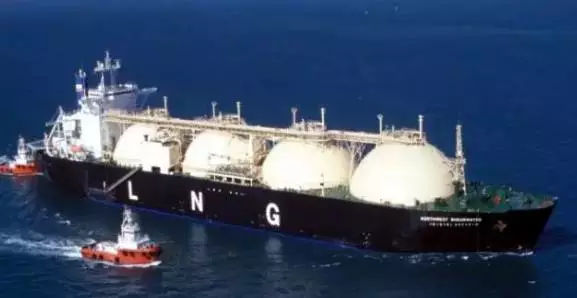Cargoship: (39, 51, 566, 257)
otherboat: (75, 207, 169, 270), (1, 129, 36, 182)
